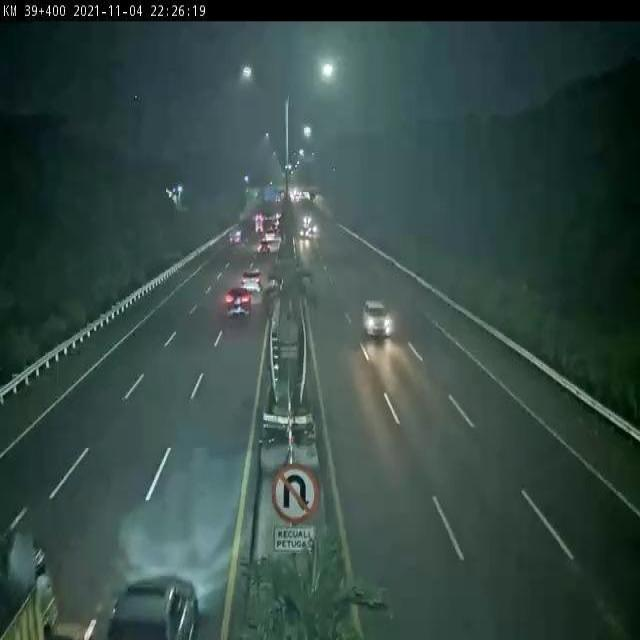Car: (97, 557, 217, 640), (218, 283, 260, 326), (362, 298, 399, 342), (238, 266, 264, 298)
Truck: (0, 510, 72, 640)
